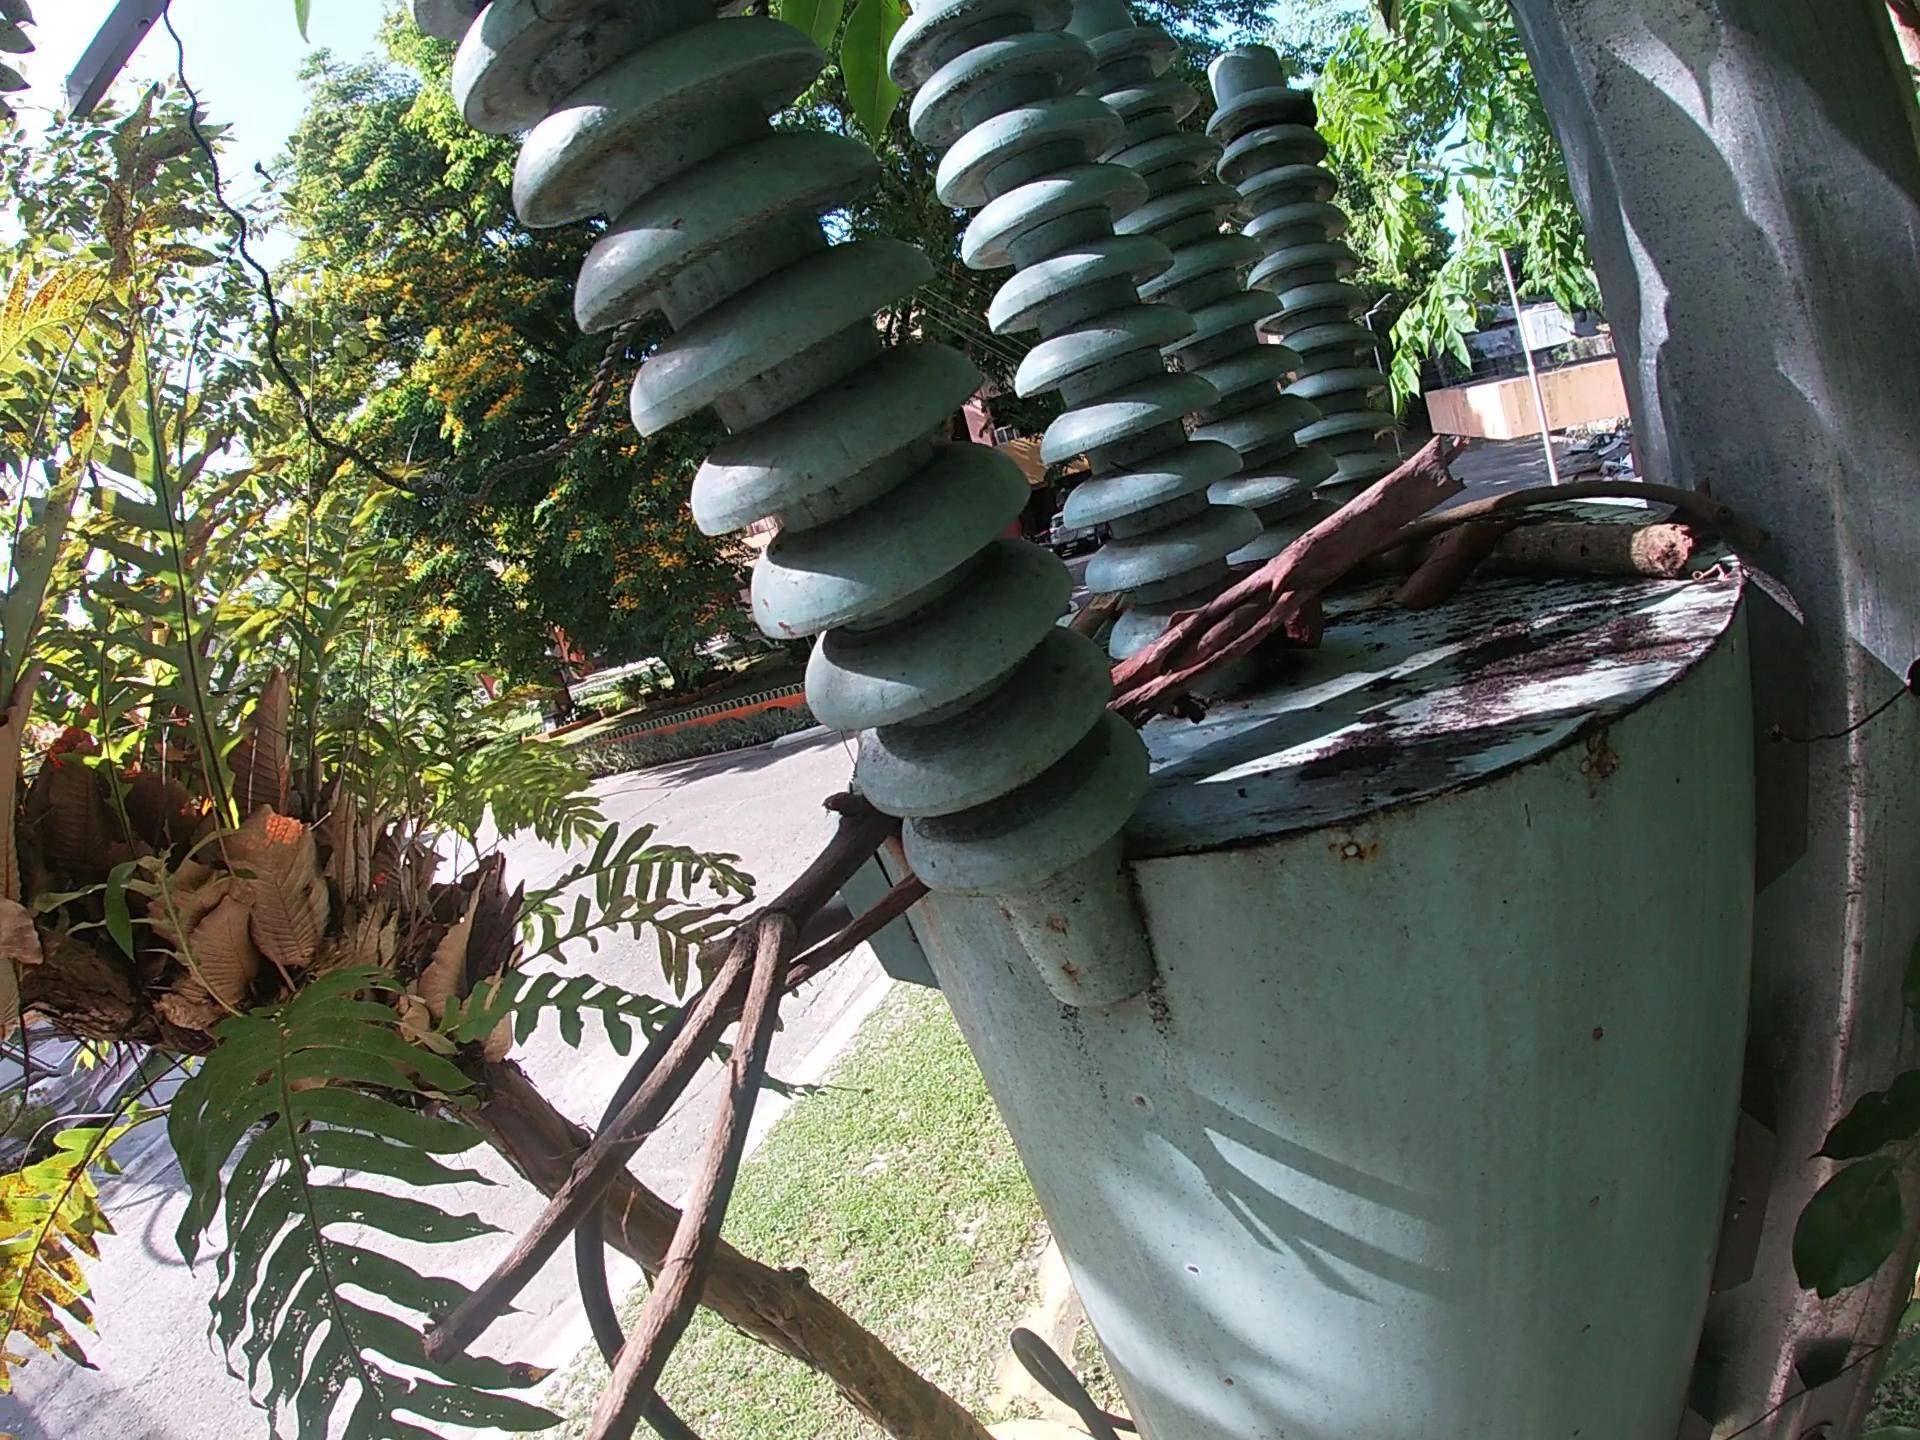leaf: (1377, 505, 1506, 596), (1067, 588, 1119, 635)
mahogany fruit: (1291, 611, 1335, 672)
tree branch: (410, 787, 890, 1440), (1107, 424, 1488, 723), (1389, 507, 1737, 570), (1448, 483, 1748, 526), (792, 883, 915, 989)
